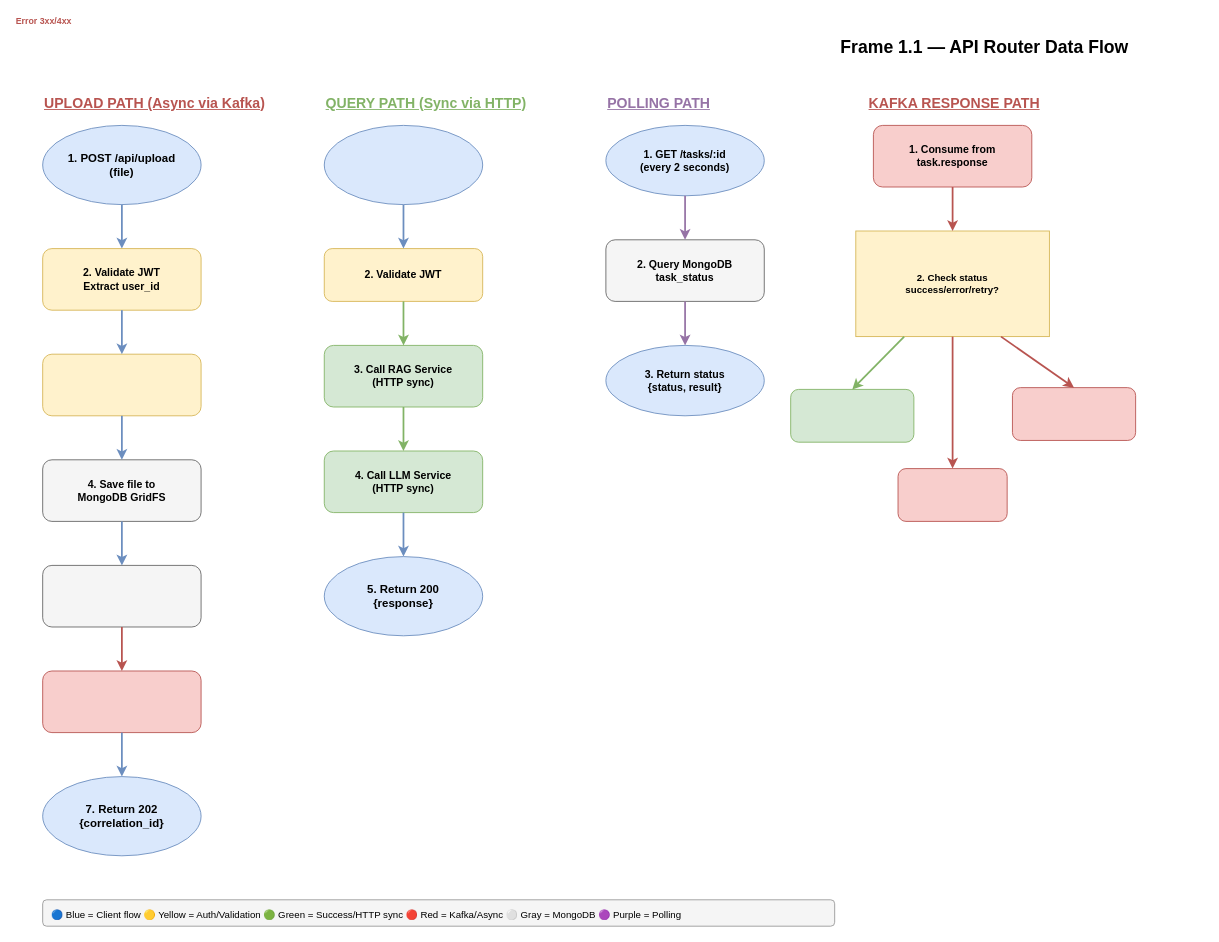
Image size: 1219x942. Some labels were removed from this diagram. The centre of each missing label's shape, as x and y in pixels:
1. POST /api/chat {message, use_rag}: point 403,165
3. Generate correlation_id: point 121,384
3a. Success Update status: point 852,415
3b. Error 5xx Retry or DLQ: point 1074,413
3c. Error 3xx/4xx No retry: point 952,494
5. Save task_status {status: in_progress}: point 121,596
6. Publish to Kafka file.uploaded: point 121,701
